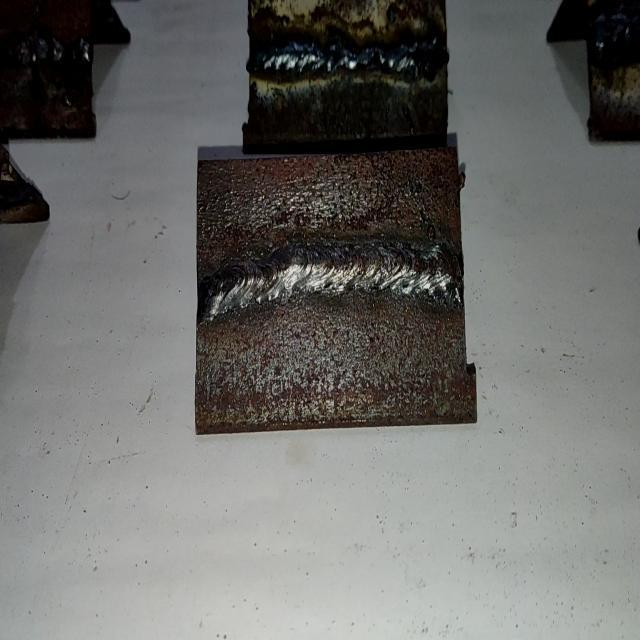Defect: (0, 35, 92, 67), (356, 26, 401, 84), (594, 8, 640, 62)
Welding Line: (201, 244, 457, 313), (252, 36, 448, 78), (0, 33, 91, 74)
Workpiece: (192, 140, 462, 440), (241, 0, 450, 159), (0, 0, 97, 141)
